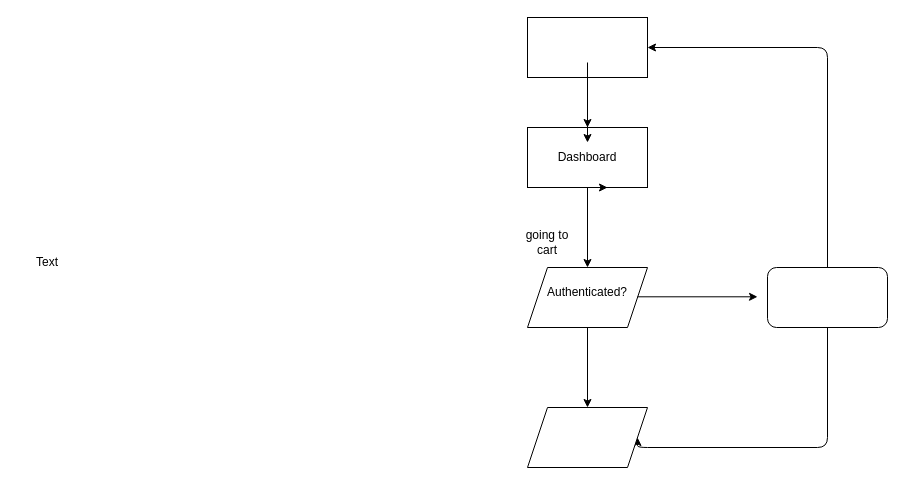
Some shapes in this 905 by 485 pixel diagram are drawn without their labels. Here are the shapes that lost their labels. From the top down, the box of each, then its label:
(526, 16, 648, 78): Loader
(766, 266, 888, 328): Login/ signup
